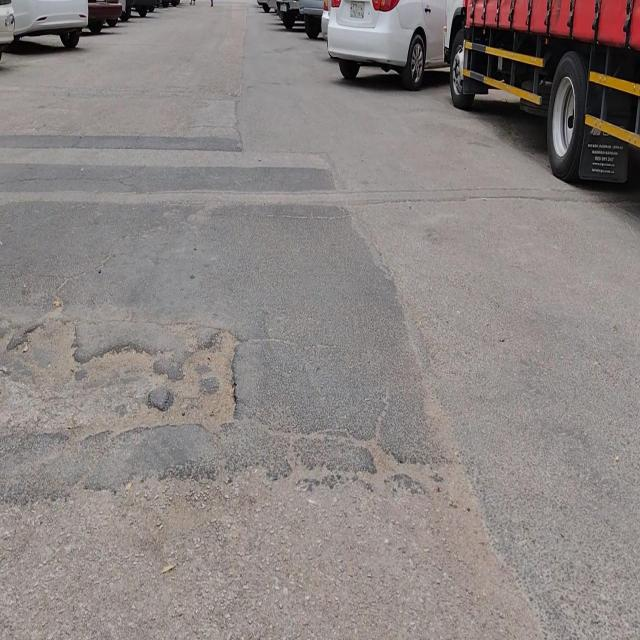Potholes: (146, 325, 243, 434), (74, 337, 154, 440)
